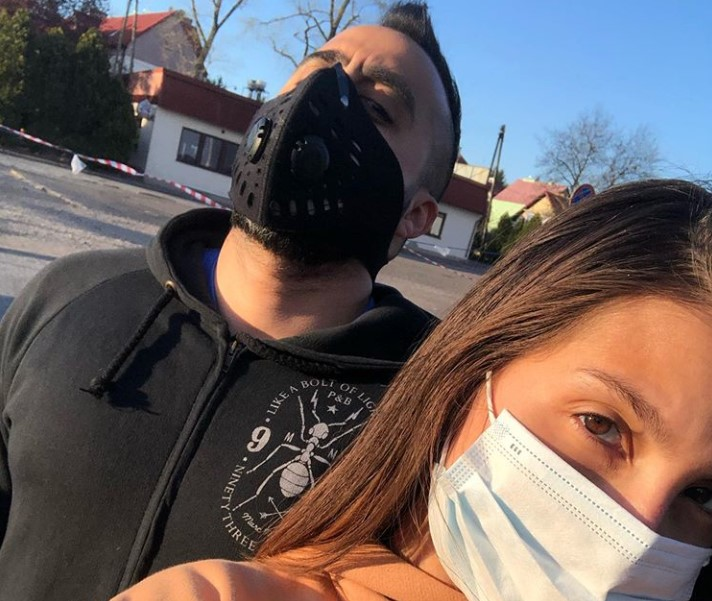face_with_mask: (428, 184, 711, 599), (226, 4, 447, 272)
